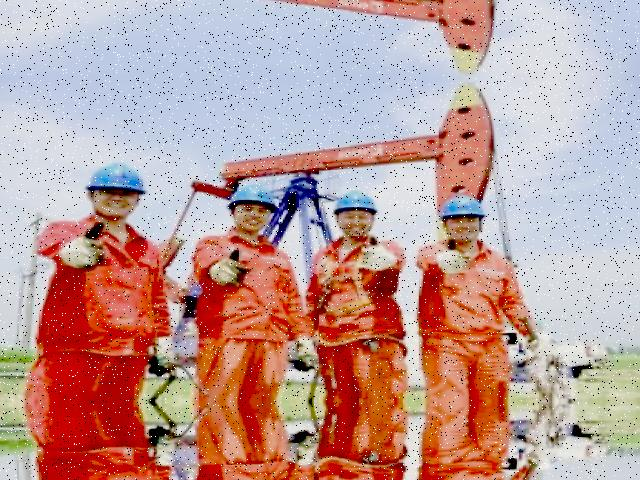Helmet: (85, 158, 154, 200), (225, 177, 286, 214), (434, 192, 496, 228), (331, 185, 384, 223)
